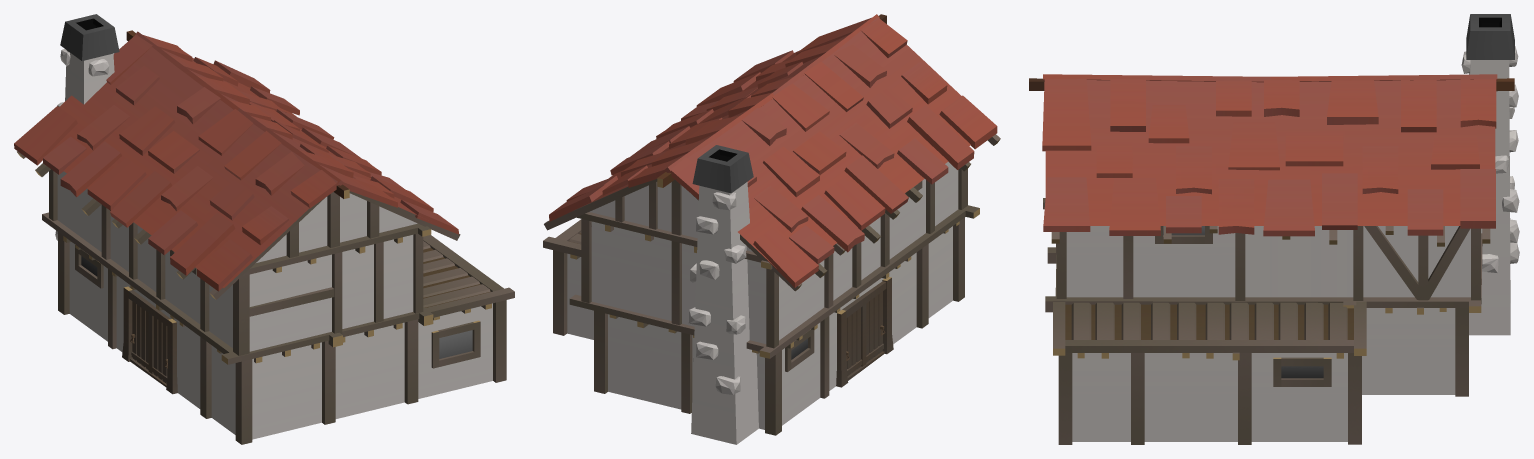
The model's file is House_6.fbx.
3 renders of one model, left to right at view 1: azimuth 30°, elevation 25°; view 2: azimuth 150°, elevation 25°; view 3: azimuth 270°, elevation 25°, orthographic. The views are drawn at different scales.
Parts seen in each view (by area): view 1: polySurface9615; view 2: polySurface9615; view 3: polySurface9615.
Boxes of the visible parts, x1,y1,x2,y2 form: polySurface9615: (14,14,514,444); polySurface9615: (543,14,1000,444); polySurface9615: (1029,14,1519,444).
Bounding box in the file's own units: 1007 × 837 × 1238.
